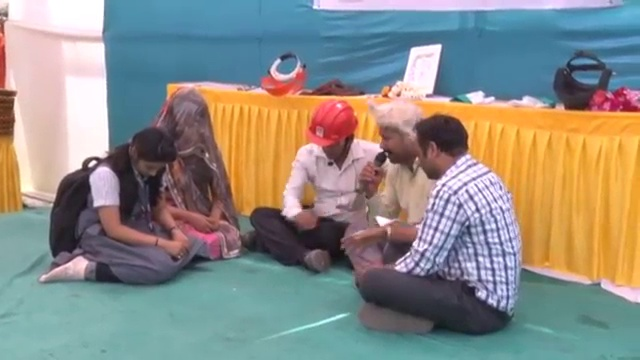helmet: (300, 100, 356, 148)
helmet_off: (413, 113, 472, 185), (375, 102, 427, 171), (161, 89, 215, 153), (123, 126, 178, 185)
helmet_on: (303, 98, 358, 168)
person: (352, 106, 524, 334), (38, 124, 206, 285), (249, 105, 375, 272), (343, 103, 441, 273), (151, 84, 243, 263)
